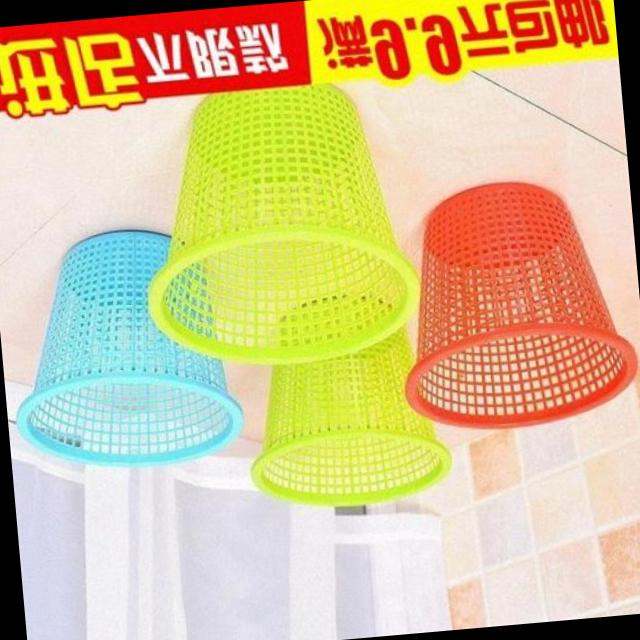dustbin: (128, 76, 429, 380), (384, 168, 640, 440), (0, 218, 251, 482), (235, 283, 457, 516)
